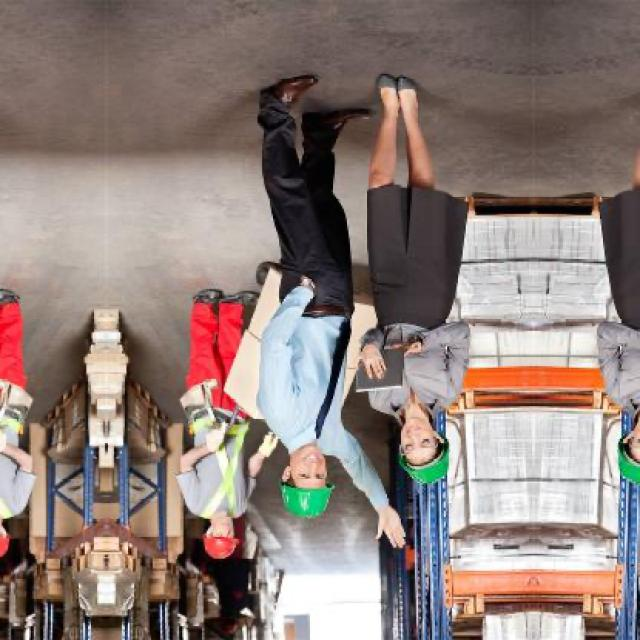con casco: (241, 447, 339, 530), (385, 410, 472, 488), (192, 518, 240, 566)
